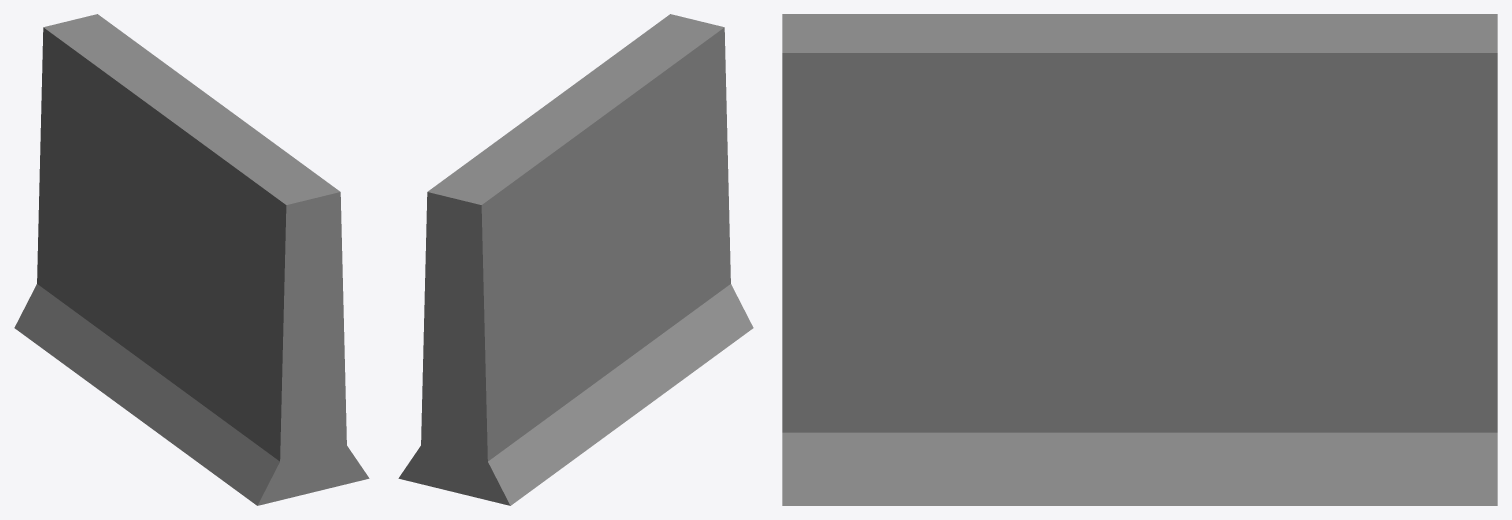
File: RoadPart_02.glb
3 renders of one model, left to right at view 1: azimuth 30°, elevation 25°; view 2: azimuth 150°, elevation 25°; view 3: azimuth 270°, elevation 25°, orthographic. The views are drawn at different scales.
Parts seen in each view (by area): view 1: RoadPart_02; view 2: RoadPart_02; view 3: RoadPart_02.
Boxes of the visible parts, x1=… form: RoadPart_02: x1=14, y1=14, x2=369, y2=505; RoadPart_02: x1=398, y1=14, x2=753, y2=505; RoadPart_02: x1=782, y1=14, x2=1497, y2=505.
Size of the model in its own units: 0.4 by 1 by 1.5.
1 material, 1 textured.
